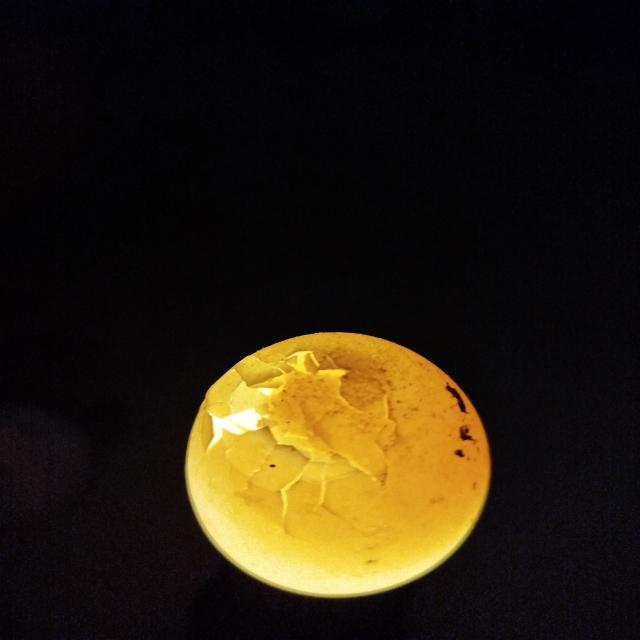Rachadura: (201, 351, 396, 534)
